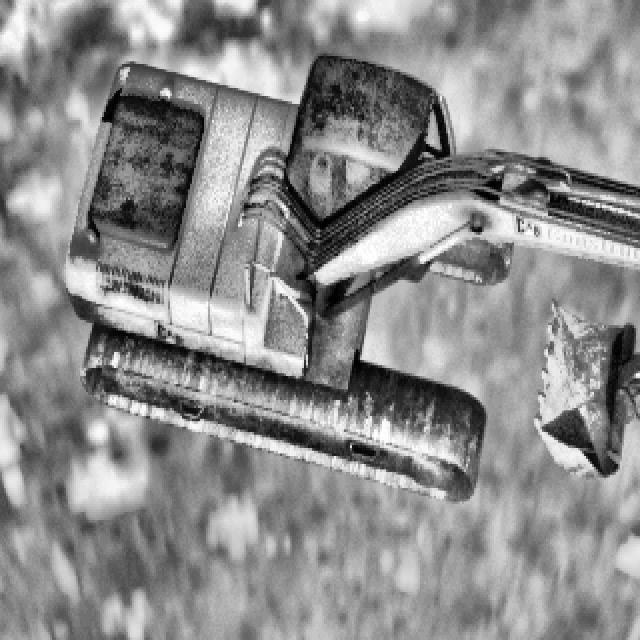excavator: (64, 51, 640, 498)
